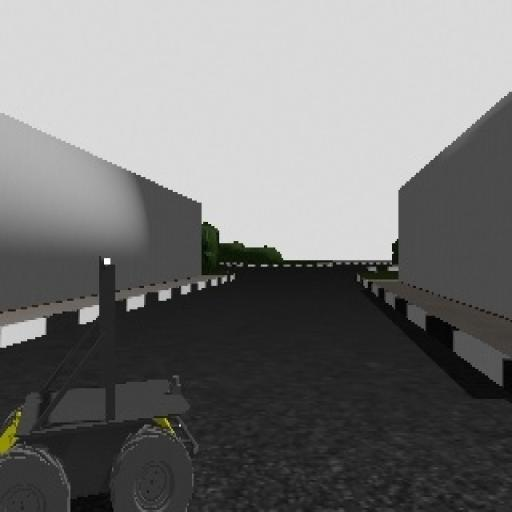huskya200: (0, 227, 220, 512)
